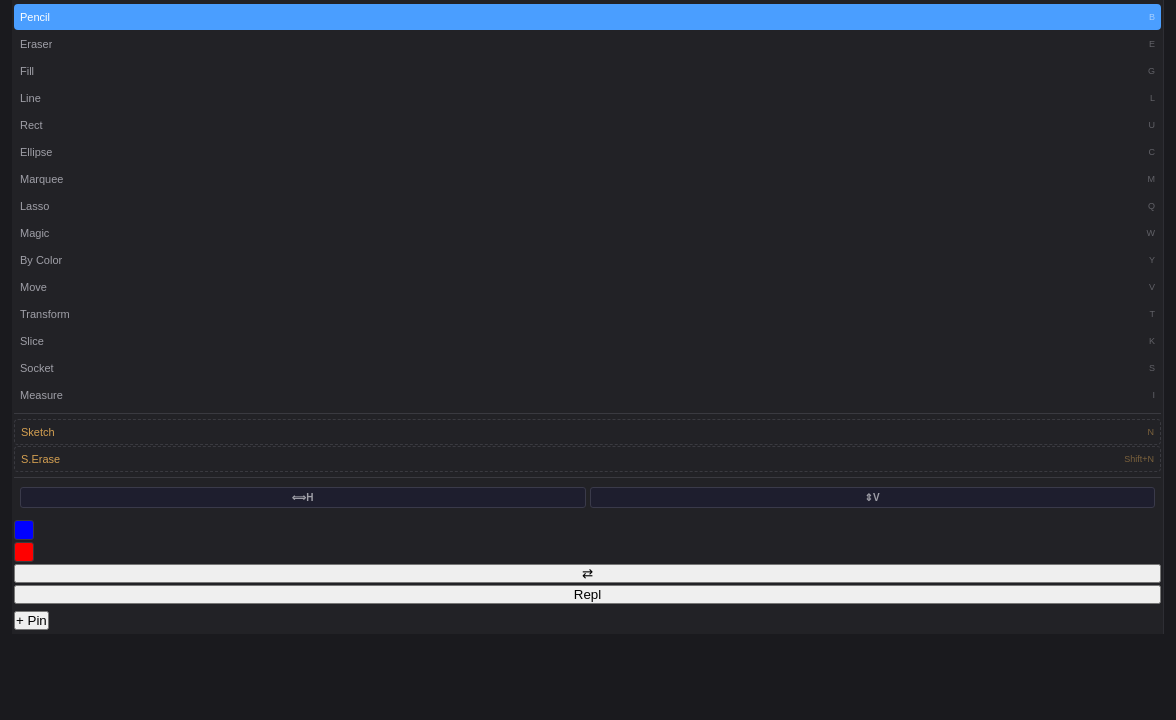
Test: ToolRail › interactions › clicking secondary swatch opens color picker
The image size is (1176, 720).
What coordinates should you click on to do the following:
click the element with test id "swatch-secondary"
I would click on:
 (24, 530)
Its box is [14,520,34,540].
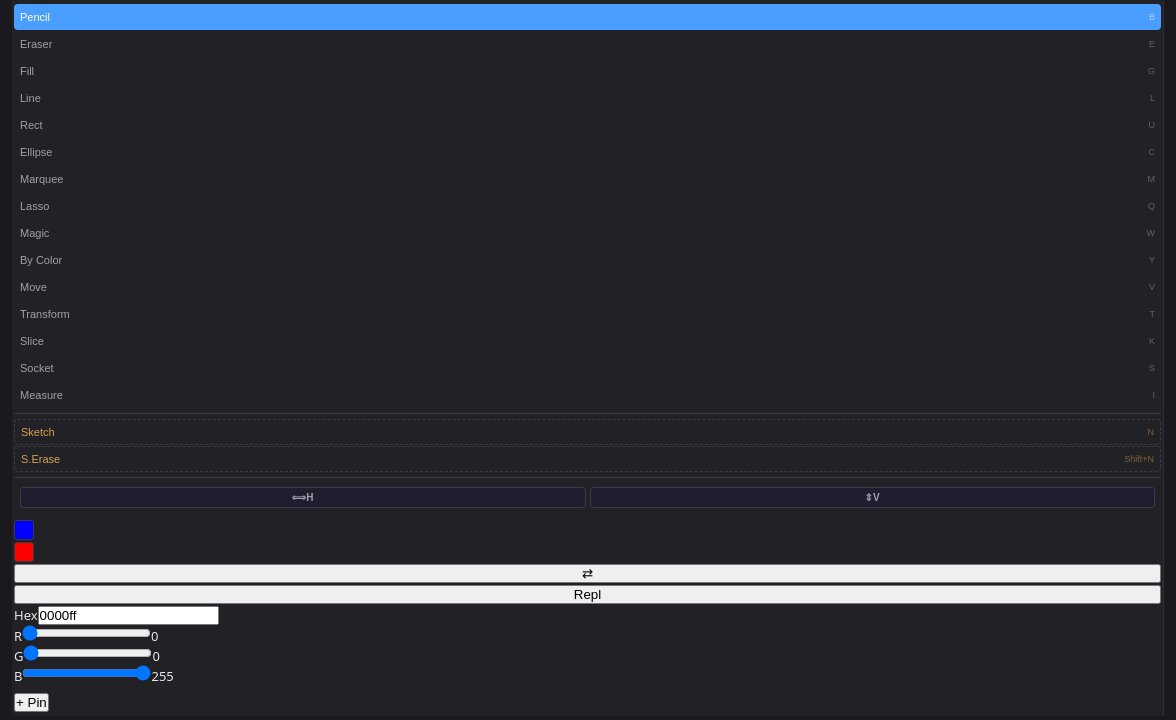
Expected: the element with test id "color-picker-popover" is shown, [14,606,219,685]
